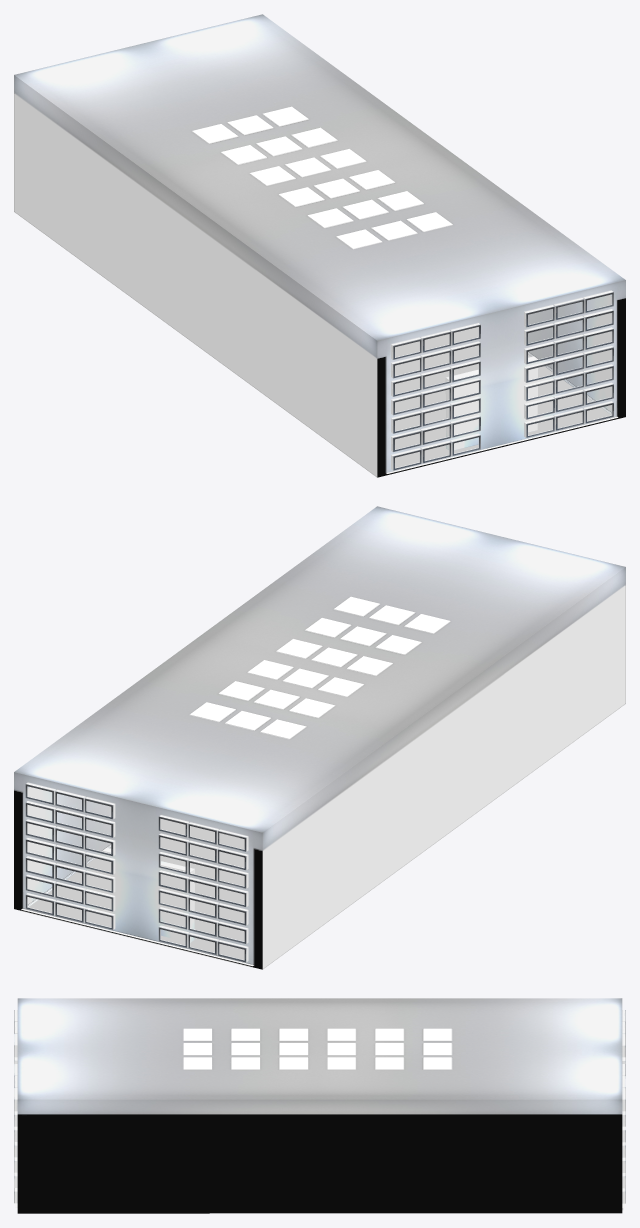
3 renders of one model, top to bottom at view 1: azimuth 30°, elevation 25°; view 2: azimuth 150°, elevation 25°; view 3: azimuth 270°, elevation 25°, orthographic. The views are drawn at different scales.
Visible parts, largest first — view 1: Raum, Lampen_oben, Floor; view 2: Raum, Lampen_oben, Floor; view 3: Raum, Lampen_oben.
Part boxes in pixels (x1=…): Raum: x1=14, y1=14, x2=625, y2=477; Lampen_oben: x1=192, y1=106, x2=452, y2=249; Floor: x1=395, y1=327, x2=610, y2=467; Raum: x1=14, y1=506, x2=625, y2=969; Lampen_oben: x1=189, y1=596, x2=450, y2=739; Floor: x1=21, y1=819, x2=252, y2=967; Raum: x1=14, y1=998, x2=625, y2=1213; Lampen_oben: x1=183, y1=1028, x2=451, y2=1069.
Bounding box in the file's own units: 7.66 × 4.05 × 19.61.
Materials: 3 (2 with a texture image).
